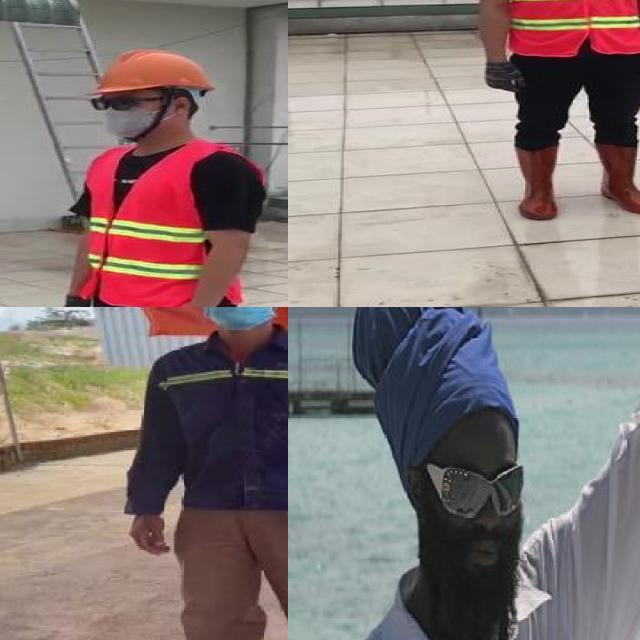boots: (510, 144, 563, 222), (594, 144, 640, 217)
face_mask: (84, 94, 161, 140), (196, 307, 275, 327)
face_nomask: (434, 461, 528, 587)
glasses: (423, 464, 526, 518), (85, 91, 153, 114)
hand_glove: (481, 61, 523, 92), (56, 296, 94, 307)
hand_noglove: (121, 510, 176, 557)
head_helmet: (84, 47, 218, 97)
head_nohelmet: (384, 356, 531, 459)
person: (294, 307, 625, 640), (115, 307, 288, 640), (52, 46, 270, 307), (457, 0, 640, 231)
vest: (76, 143, 264, 307), (501, 0, 640, 55)
